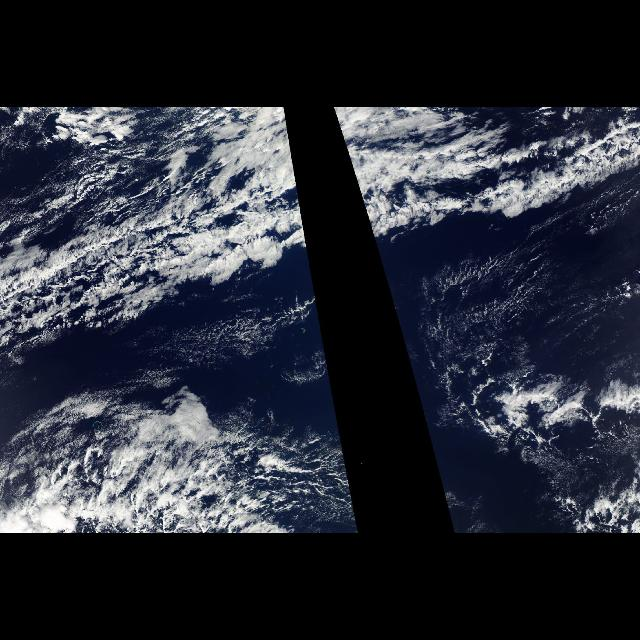Fish: (0, 110, 328, 364), (334, 110, 636, 364), (0, 376, 346, 532)
Sugar: (410, 196, 640, 380), (163, 291, 324, 389)
